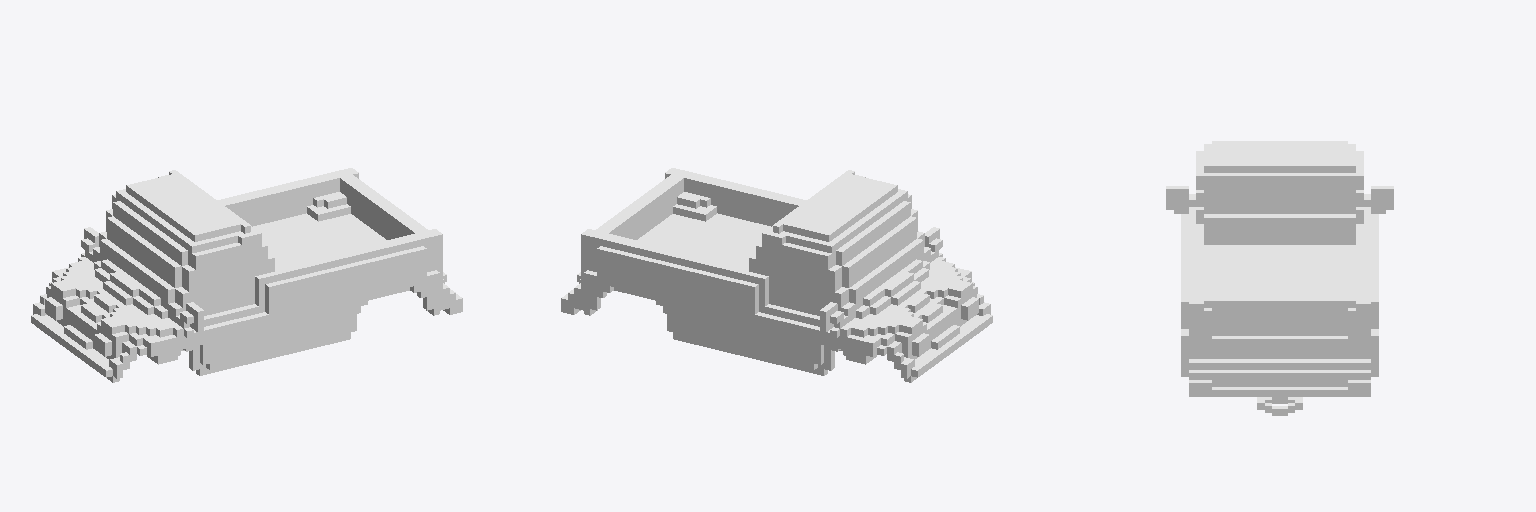
Rendered from Regular-Pickup-Truck.obj.
The picture shows the model from 3 angles: view 1: azimuth 30°, elevation 25°; view 2: azimuth 150°, elevation 25°; view 3: azimuth 270°, elevation 25°; orthographic projection.
Parts seen in each view (by area): view 1: object 1; view 2: object 1; view 3: object 1.
Part boxes in pixels (x1,y1,x2,y2): object 1: (31, 168, 462, 382); object 1: (561, 168, 992, 382); object 1: (1166, 141, 1393, 415).
Size of the model in its own units: 5.7 by 2 by 3.